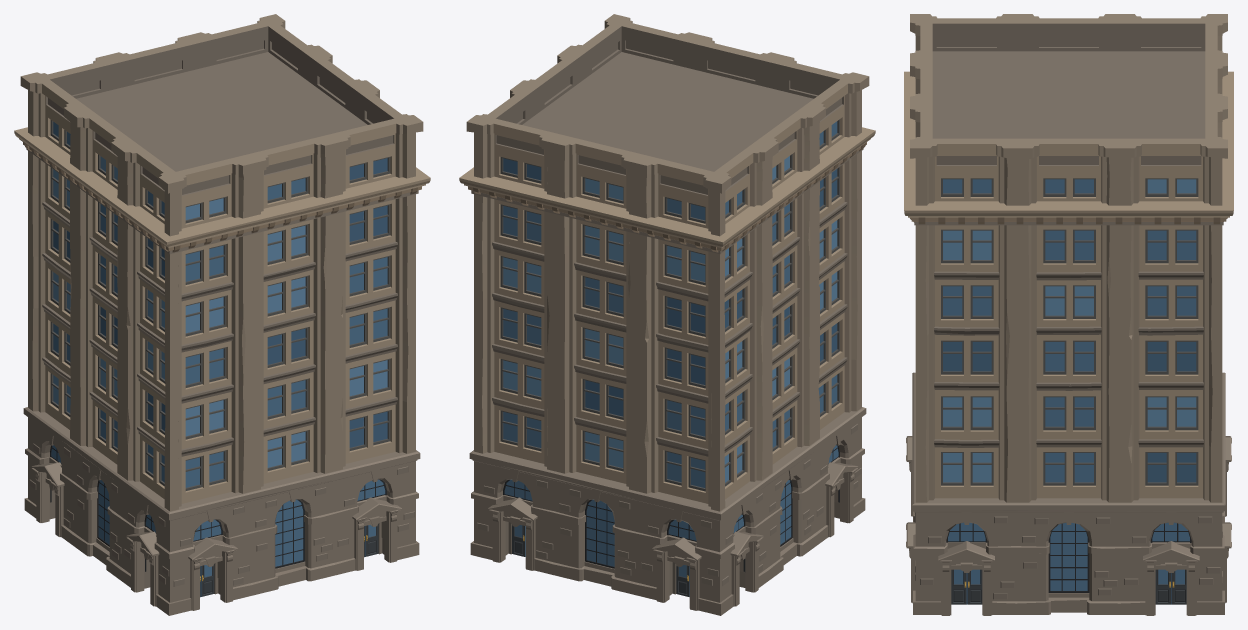
The model's file is Large_Building_Old.glb.
3 renders of one model, left to right at view 1: azimuth 30°, elevation 25°; view 2: azimuth 150°, elevation 25°; view 3: azimuth 270°, elevation 25°, orthographic. The views are drawn at different scales.
Visible parts, largest first — view 1: SM_Bld_OfficeOld_Large_01; view 2: SM_Bld_OfficeOld_Large_01; view 3: SM_Bld_OfficeOld_Large_01.
Part boxes in pixels (x1,y1,x2,y2): SM_Bld_OfficeOld_Large_01: [14, 14, 430, 615]; SM_Bld_OfficeOld_Large_01: [459, 14, 875, 615]; SM_Bld_OfficeOld_Large_01: [904, 14, 1233, 615].
Bounding box in the file's own units: 16.09 × 25.25 × 16.12.
Materials: 1 (1 with a texture image).
